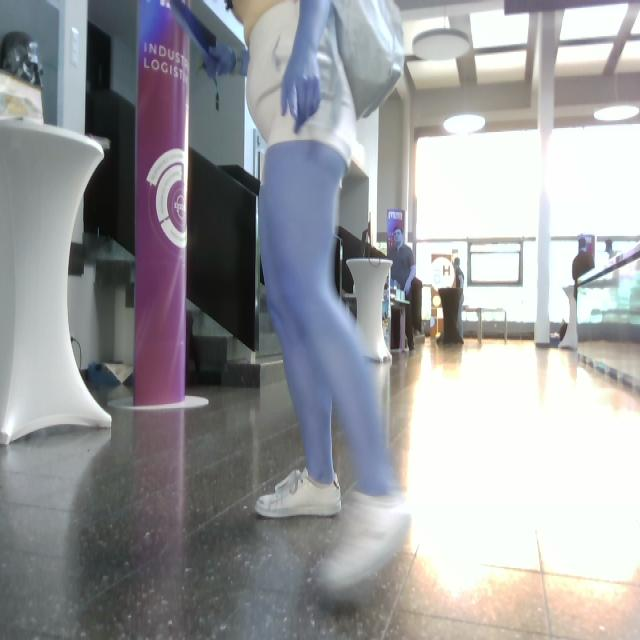light bulb: (443, 78, 486, 136), (594, 73, 640, 122), (412, 28, 471, 61), (443, 113, 486, 136), (594, 104, 640, 122), (433, 296, 442, 308)
person: (388, 226, 424, 337)
pillar: (133, 1, 191, 406), (534, 9, 564, 346)
staircase: (560, 241, 640, 394)
tiled floor: (2, 332, 639, 638)
